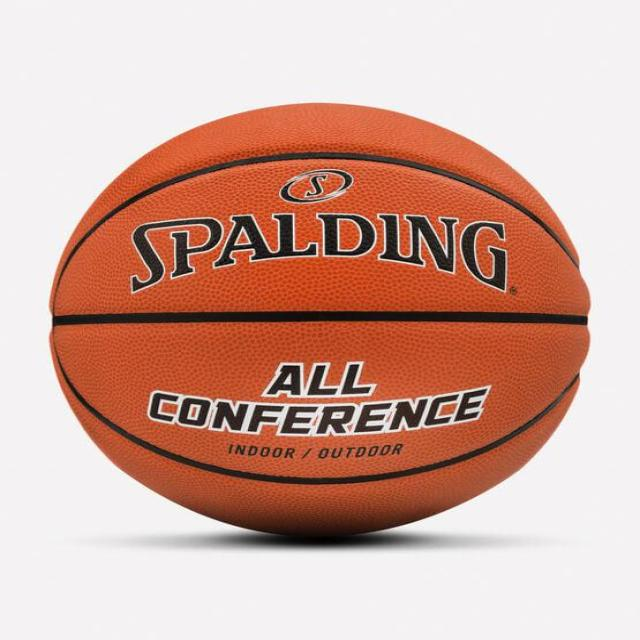ball: (43, 97, 594, 545)
